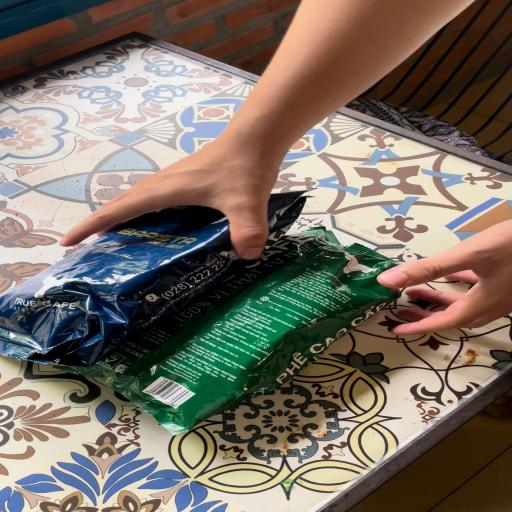cafe_hat: (0, 206, 248, 366), (267, 191, 305, 244)
cafe_xay: (121, 239, 399, 435)
